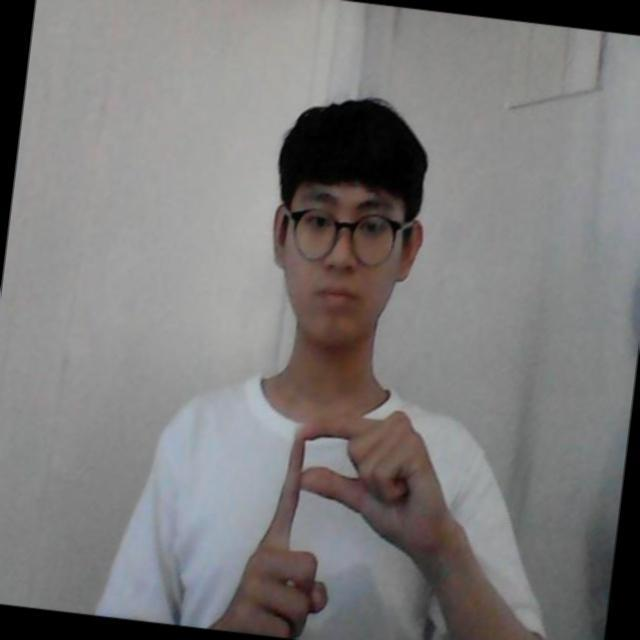P: (246, 396, 397, 639)
